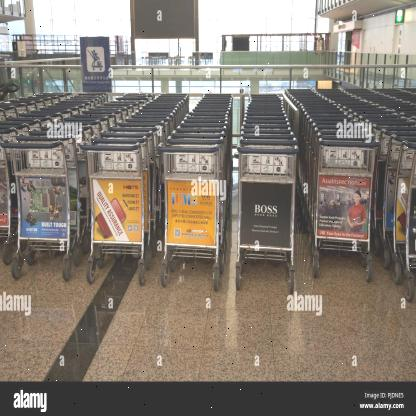airport-trolley: (0, 135, 78, 279), (79, 138, 151, 287), (156, 141, 225, 292), (234, 143, 296, 295), (312, 138, 373, 284), (400, 147, 416, 301)
